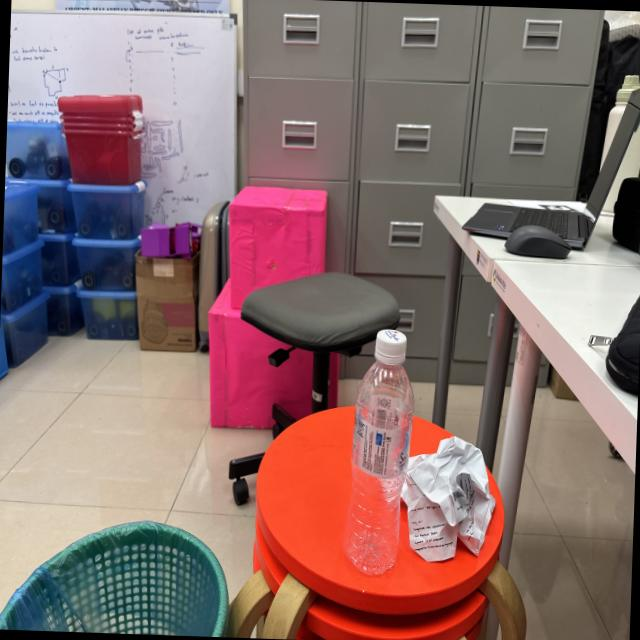crumpled_paper: (390, 422, 500, 578)
plastic_bottle: (338, 314, 422, 594)
